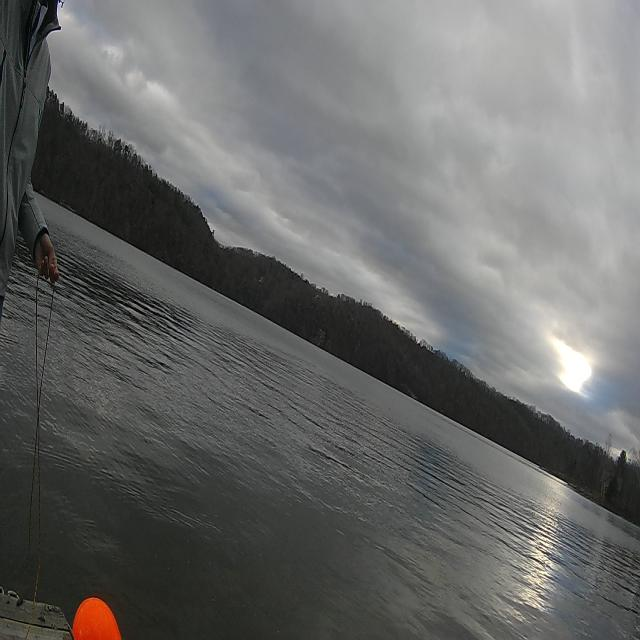Buoy: (59, 585, 127, 640)
